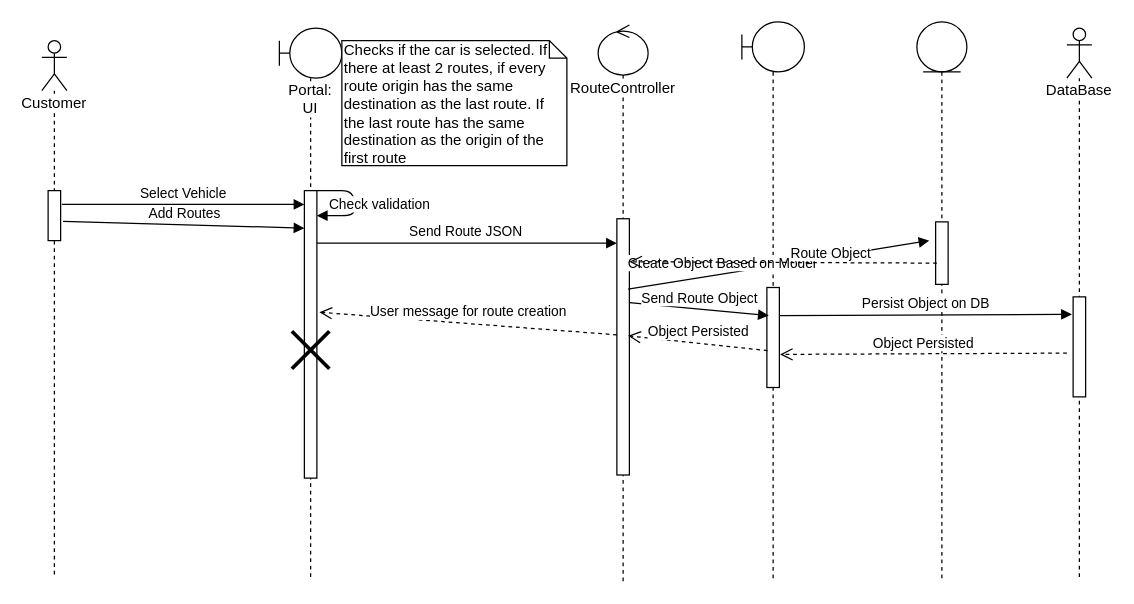
This 1134x604 diagram has some shape labels left out. The shapes that lost their labels are listed below. From the top down, each one's centre as x and y in pixels, then its label:
At point 772,299: "RouteDAO".
At point 941,299: "Route".
